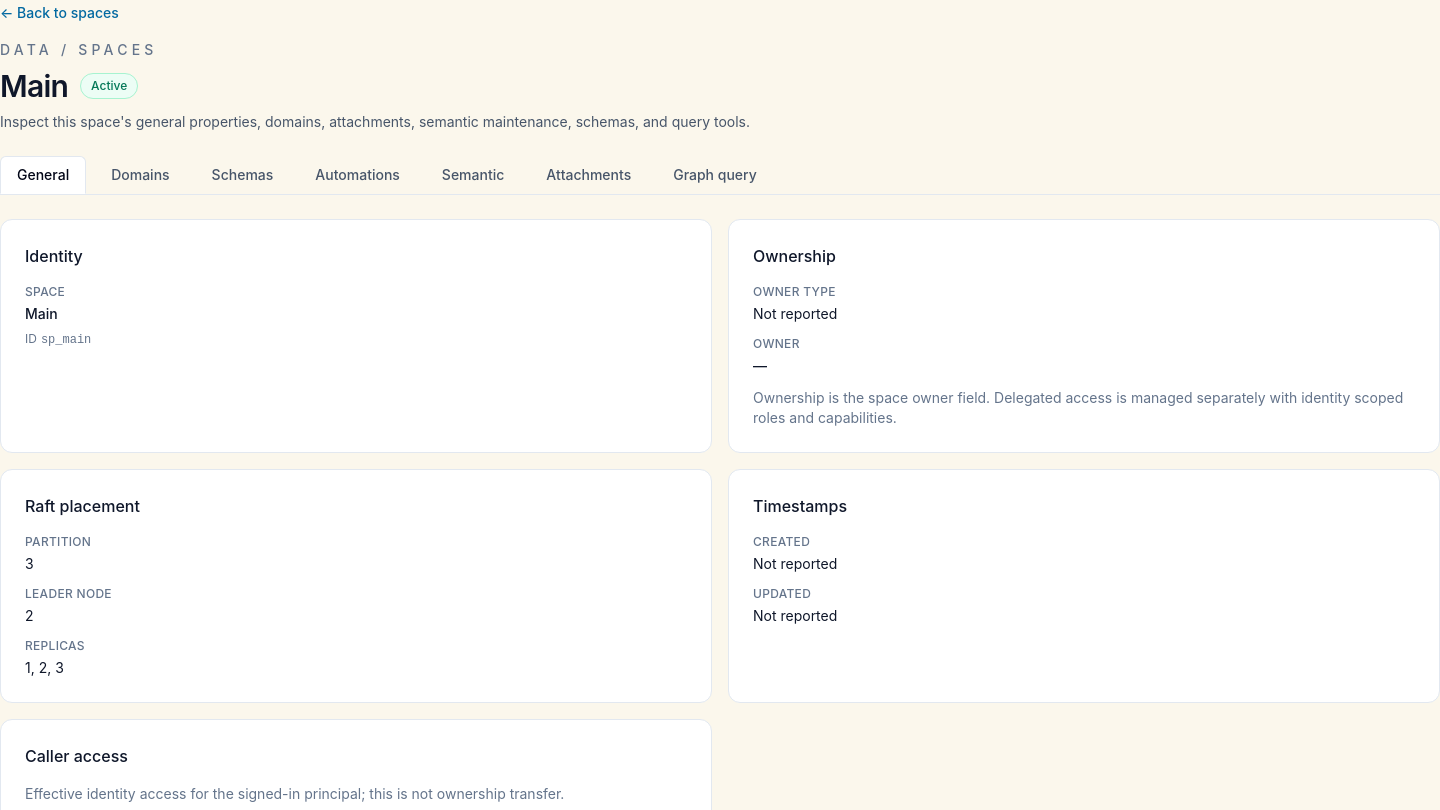
Test case: keeps semantic panels readable while hiding maintenance mutations without semantic manage capability
Expected: the heading "Main" is shown, [0,68,68,104]
Click the tab "Semantic" at (473,175), box [425,156,521,194]
(page scrolled)
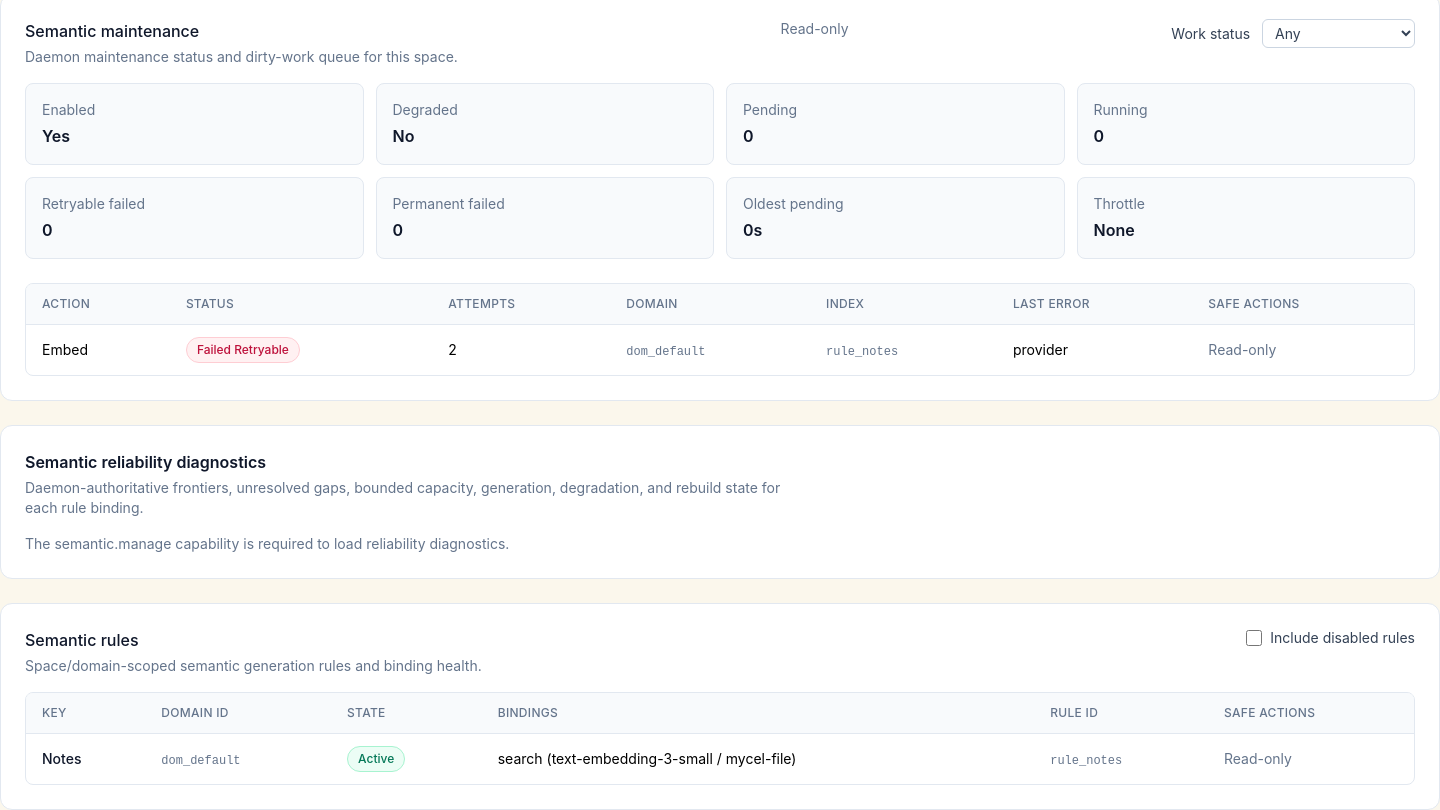
Now the text "provider" is shown, box [997,324,1192,375]
Now the text "Read-only" in the row of "Work status" is shown, box [781,20,849,37]
Now the text "semantic.manage capability is required" is shown, box [25,535,509,552]
